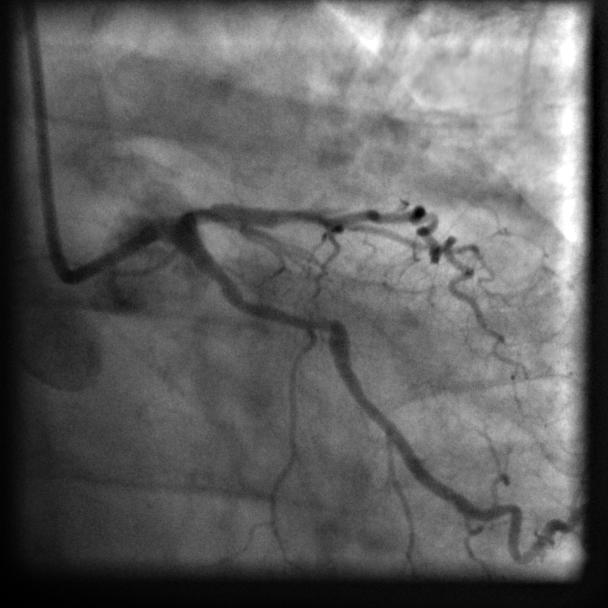Stenosis: (236, 287, 324, 337)
